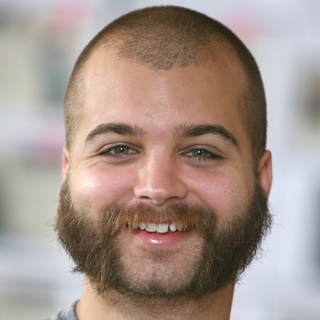eye: (172, 134, 232, 172), (87, 132, 149, 164)
